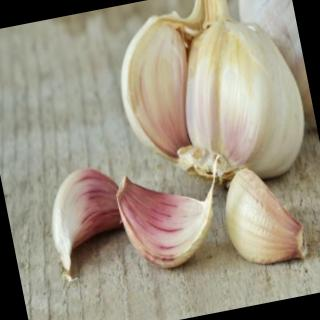Bawang Putih: (108, 1, 315, 203), (114, 160, 225, 276), (217, 159, 311, 273), (43, 162, 136, 273)
